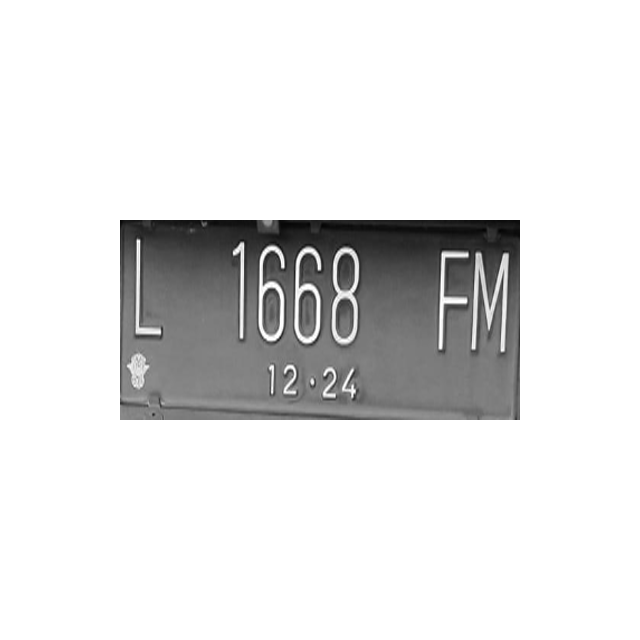contain: (468, 245, 511, 361), (128, 232, 172, 344), (207, 231, 251, 343), (249, 235, 289, 350), (288, 234, 328, 349), (327, 234, 367, 349), (430, 247, 470, 362)
